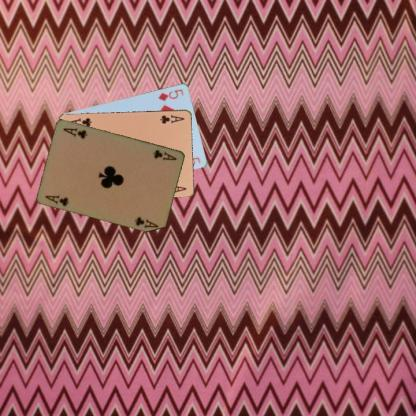5d: (156, 86, 185, 102)
Ac: (43, 192, 70, 208), (150, 147, 178, 161), (158, 112, 185, 125)
